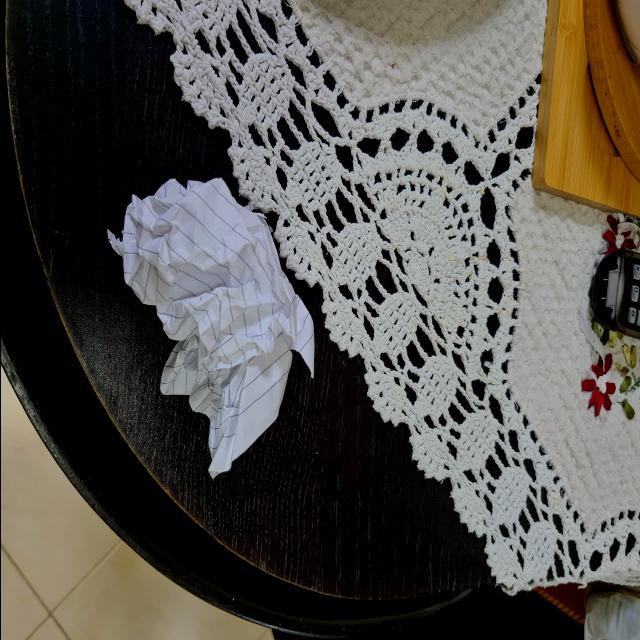Paper: (104, 174, 314, 460)
